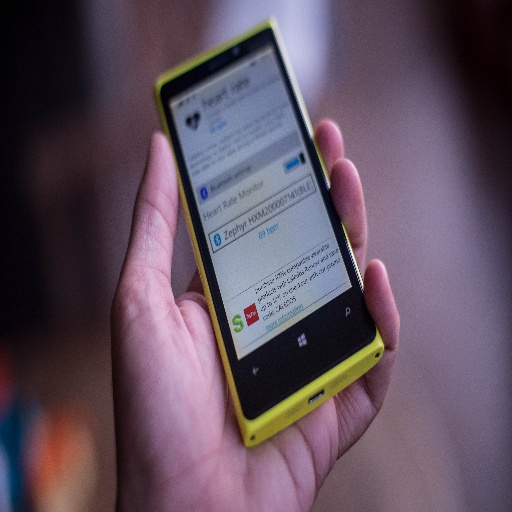hand: (134, 63, 400, 482)
